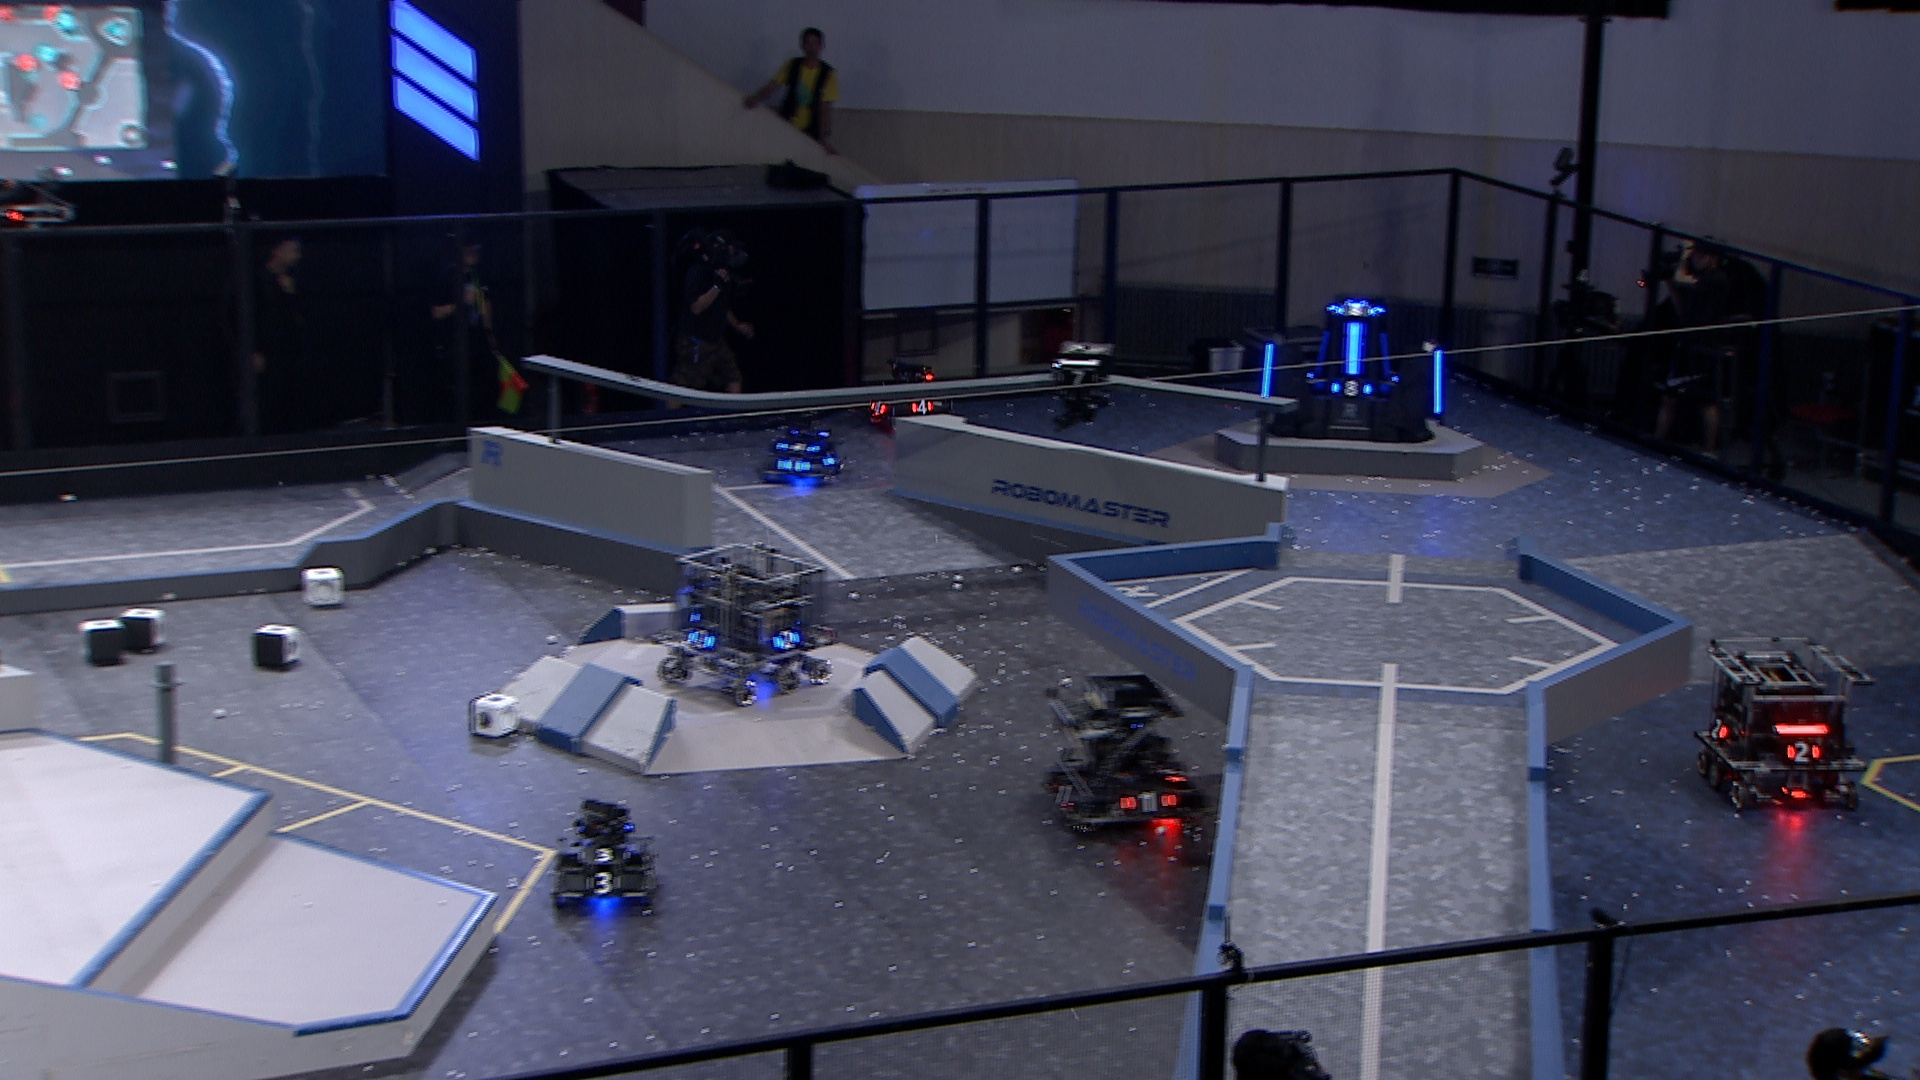armor: (1120, 789, 1182, 814), (1340, 322, 1367, 377), (1429, 345, 1448, 415), (1309, 328, 1332, 381), (1258, 342, 1276, 398), (576, 847, 632, 865), (1044, 781, 1077, 811), (1054, 368, 1100, 389), (1787, 740, 1825, 765), (584, 872, 622, 895), (1379, 330, 1396, 381), (1331, 378, 1373, 398), (774, 438, 822, 455), (1333, 299, 1377, 318), (770, 628, 803, 651), (773, 458, 814, 476), (1160, 760, 1188, 785), (1706, 712, 1730, 740), (688, 626, 716, 650), (910, 398, 935, 418), (869, 398, 891, 419)
base: (1253, 294, 1453, 447)
car: (1692, 632, 1878, 816), (657, 534, 841, 708), (1040, 669, 1205, 836), (550, 796, 665, 915), (754, 407, 851, 487), (860, 357, 948, 439)
watcher: (1050, 338, 1117, 436)
